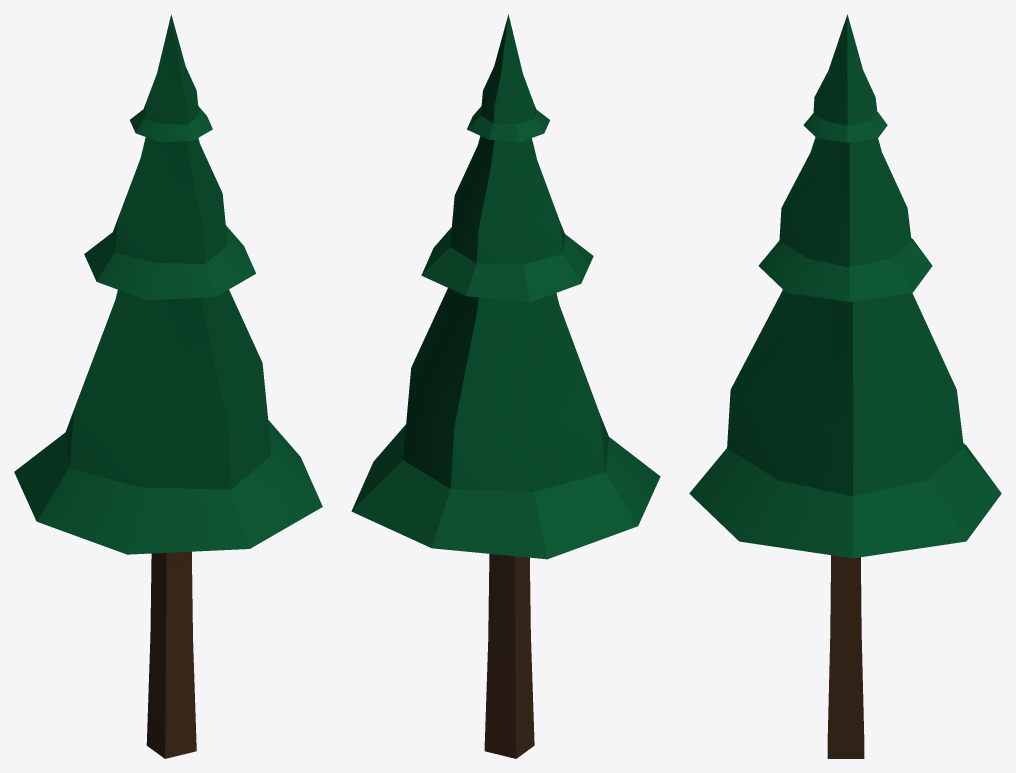
File: Coni_Tree6.fbx
3 renders of one model, left to right at view 1: azimuth 30°, elevation 25°; view 2: azimuth 150°, elevation 25°; view 3: azimuth 270°, elevation 25°, orthographic.
Parts seen in each view (by area): view 1: Coni_Tree6_Leaves3, Coni_Tree6_Leaves2, Coni_Tree6, Coni_Tree6_Leaves; view 2: Coni_Tree6_Leaves3, Coni_Tree6_Leaves2, Coni_Tree6, Coni_Tree6_Leaves; view 3: Coni_Tree6_Leaves3, Coni_Tree6_Leaves2, Coni_Tree6, Coni_Tree6_Leaves.
Part boxes in pixels (x1,y1,x2,y2): Coni_Tree6_Leaves3: (14, 289, 322, 554); Coni_Tree6_Leaves2: (84, 137, 255, 300); Coni_Tree6: (146, 551, 196, 758); Coni_Tree6_Leaves: (130, 14, 212, 142); Coni_Tree6_Leaves3: (351, 288, 660, 559); Coni_Tree6_Leaves2: (421, 136, 593, 302); Coni_Tree6: (484, 554, 534, 758); Coni_Tree6_Leaves: (467, 14, 549, 142); Coni_Tree6_Leaves3: (689, 289, 1001, 558); Coni_Tree6_Leaves2: (758, 137, 932, 301); Coni_Tree6: (827, 555, 864, 758); Coni_Tree6_Leaves: (803, 14, 887, 142).
Bounding box in the file's own units: 98.38 × 261 × 100.
